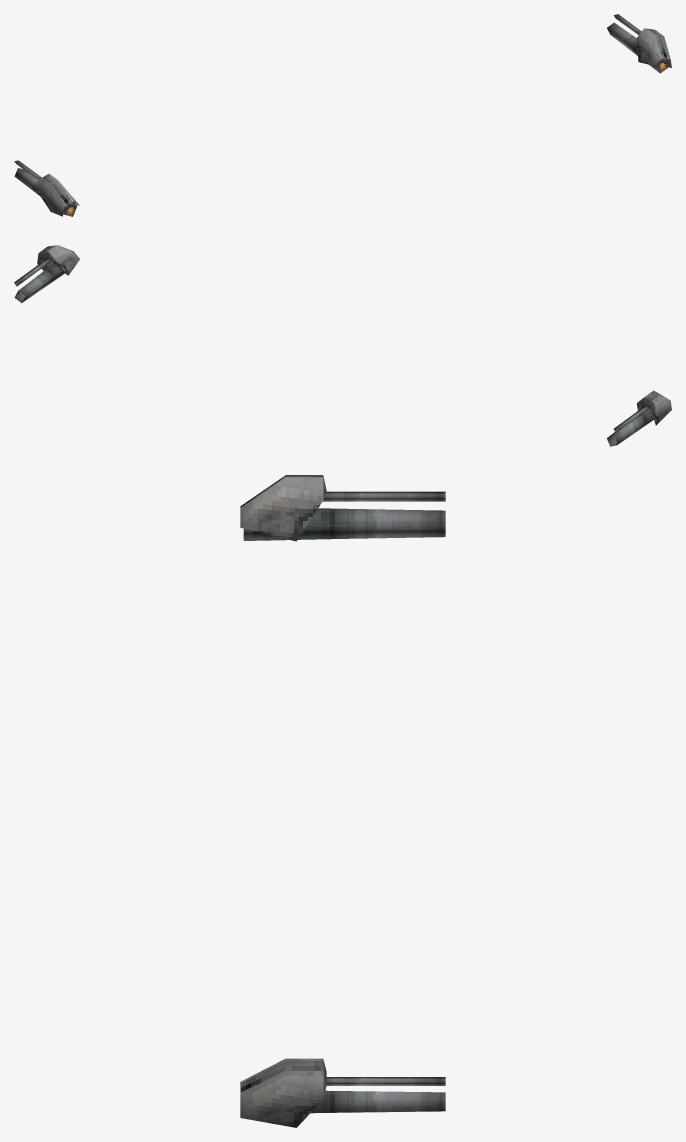
File: hutt_fighter_light_weapon_s06_l2.fbx
The picture shows the model from 3 angles, top to bottom: view 1: azimuth 30°, elevation 25°; view 2: azimuth 150°, elevation 25°; view 3: azimuth 270°, elevation 25°; orthographic projection. The views are drawn at different scales.
Visible parts, largest first — view 1: mesh_node; view 2: mesh_node; view 3: mesh_node.
Boxes of the visible parts, bbox=[...] form: mesh_node: bbox=[14, 14, 671, 216]; mesh_node: bbox=[14, 245, 671, 446]; mesh_node: bbox=[240, 475, 445, 1127].
Bounding box in the file's own units: 3.44 × 0.1717 × 0.4951.
